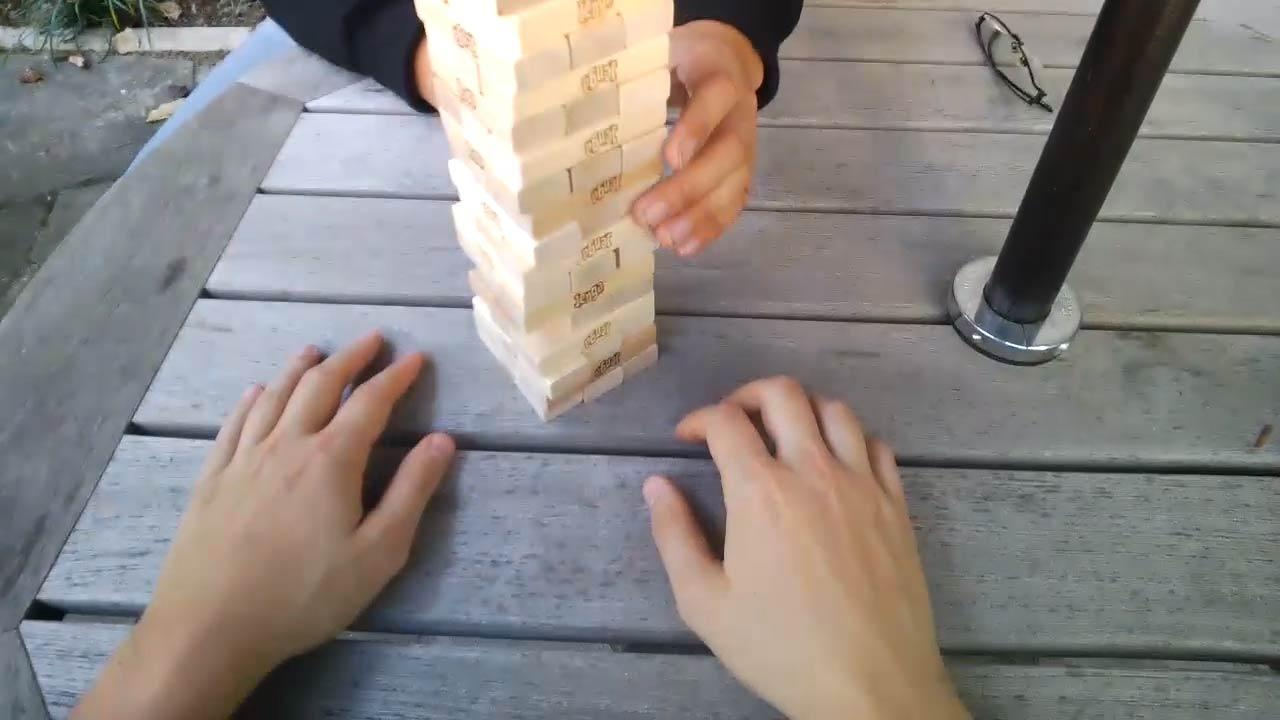hand: (638, 372, 962, 690), (164, 328, 456, 650), (668, 20, 763, 268)
